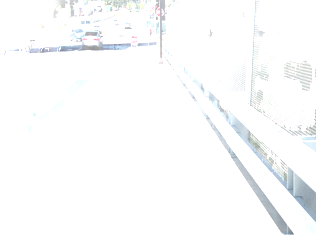Edge: (166, 37, 313, 227)
